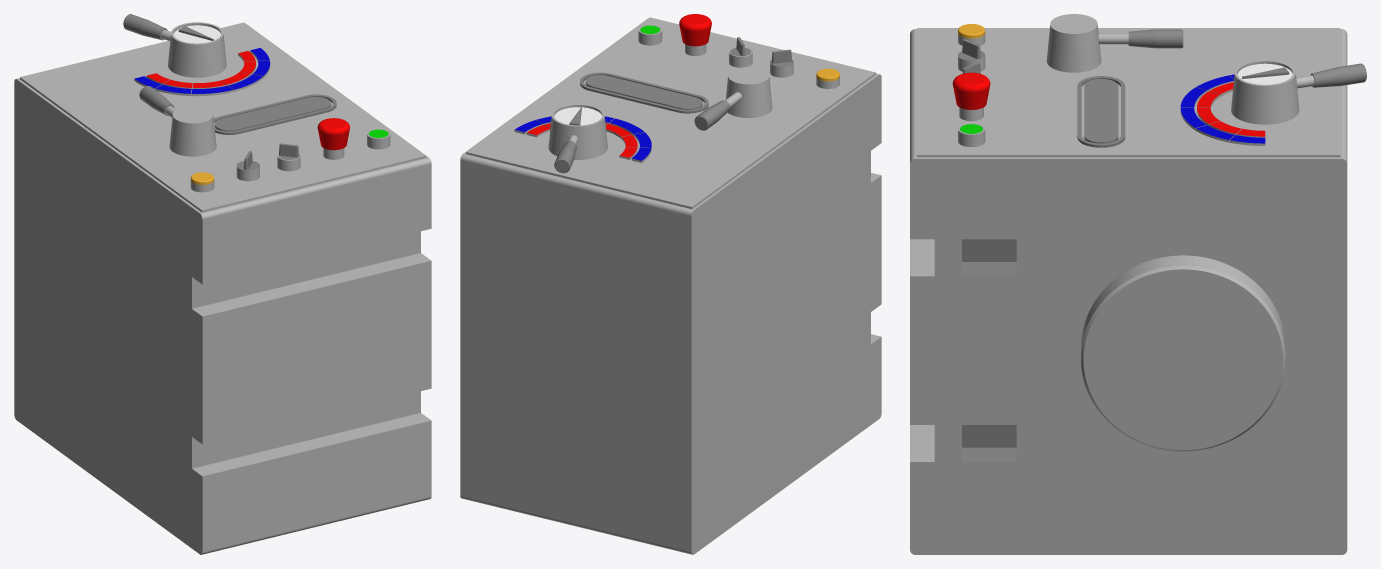
File: HEADSTOCK.glb
3 views of the same model, side by side, from view 1: azimuth 30°, elevation 25°; view 2: azimuth 150°, elevation 25°; view 3: azimuth 270°, elevation 25° (orthographic). The views are drawn at different scales.
Parts seen in each view (by area): view 1: Node1, Node2, Node4, Node3, Node5; view 2: Node1, Node2, Node4, Node3, Node5; view 3: Node1, Node2, Node4, Node3, Node5.
Boxes of the visible parts, x1,y1,x2,y2 form: Node1: (14, 22, 431, 554); Node2: (123, 14, 336, 170); Node4: (147, 51, 349, 150); Node3: (134, 48, 270, 93); Node5: (173, 25, 220, 43); Node1: (460, 17, 881, 554); Node2: (554, 37, 793, 173); Node4: (527, 14, 711, 157); Node3: (515, 116, 651, 160); Node5: (554, 107, 602, 125); Node1: (910, 14, 1347, 554); Node2: (958, 29, 1366, 461); Node4: (952, 72, 1265, 136); Node3: (1180, 74, 1265, 143); Node5: (1237, 63, 1292, 84).
Bounding box in the file's own units: 245 × 352 × 334.
